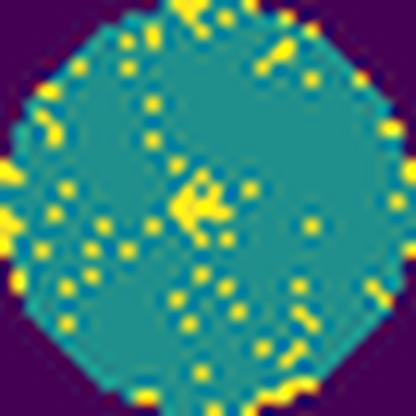Center: (163, 159, 240, 252)
